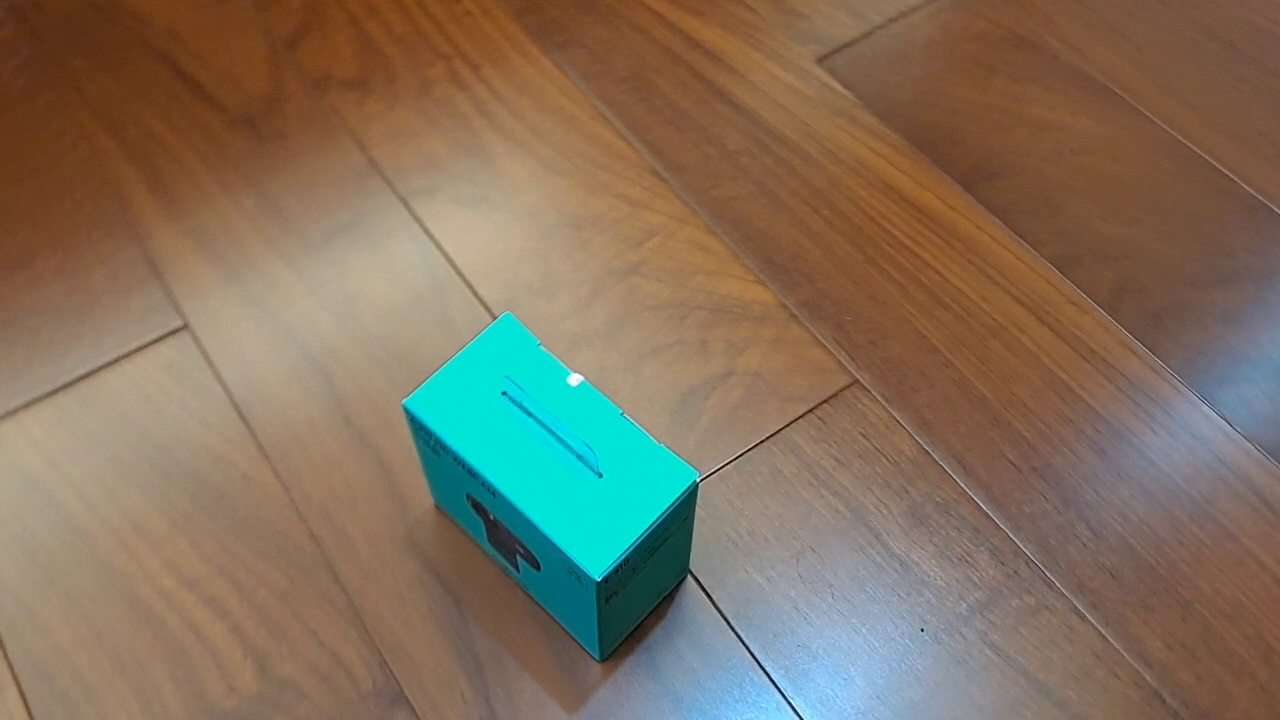webcam: (399, 308, 701, 665)
